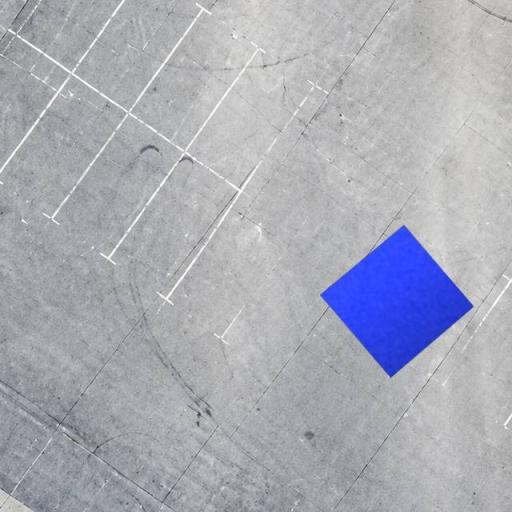BLUE_SQUARE: (320, 224, 474, 378)
